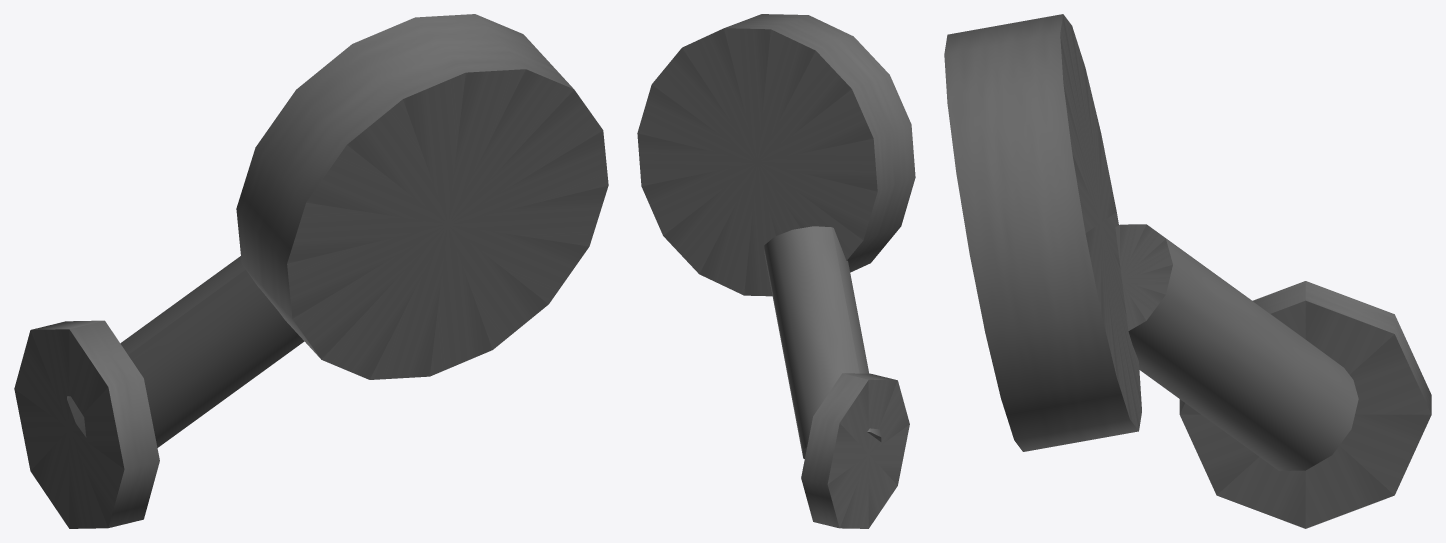
File: mastarmcurve_10x2_c6_west.obj
3 renders of one model, left to right at view 1: azimuth 30°, elevation 25°; view 2: azimuth 150°, elevation 25°; view 3: azimuth 270°, elevation 25°, orthographic. The views are drawn at different scales.
Parts seen in each view (by area): view 1: mastarm_10x2_c6_west; view 2: mastarm_10x2_c6_west; view 3: mastarm_10x2_c6_west.
Part boxes in pixels (x1,y1,x2,y2): mastarm_10x2_c6_west: [14, 14, 608, 528]; mastarm_10x2_c6_west: [637, 14, 915, 528]; mastarm_10x2_c6_west: [944, 14, 1431, 528].
Size of the model in its own units: 0.8472 by 1.07 by 0.7737.
